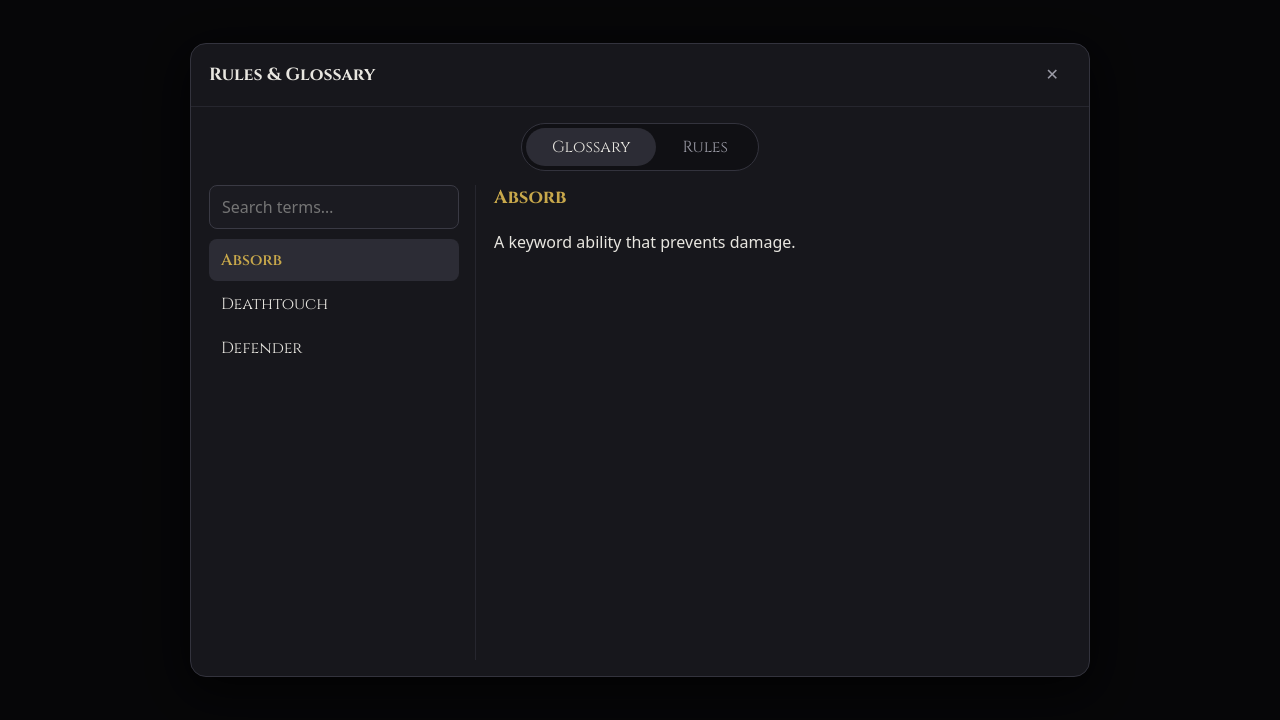
Test: rule references inside a definition jump to that rule
What coordinates should you click on to do the following:
click the button "Deathtouch"
I would click on:
 (334, 304)
Its box is [209,283,459,325].
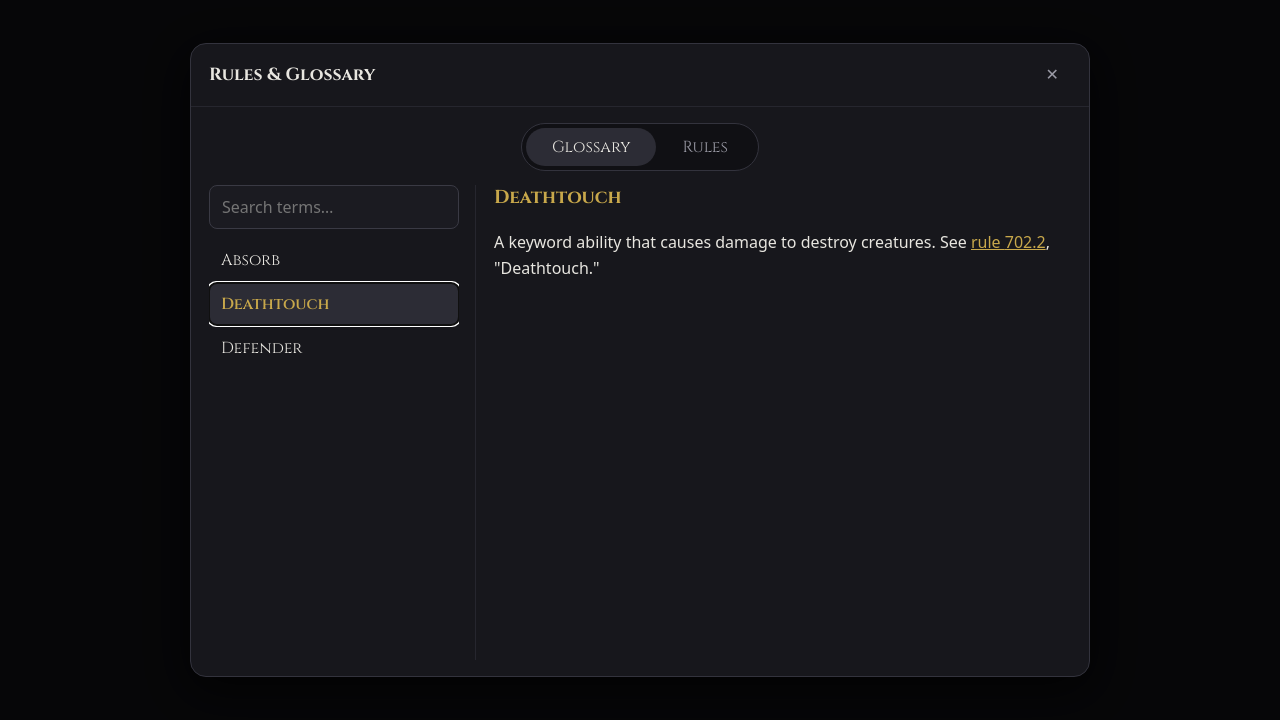
What coordinates should you click on to do the following:
click the button "rule 702.2"
I would click on:
 (1008, 242)
Its box is [971,229,1046,255].
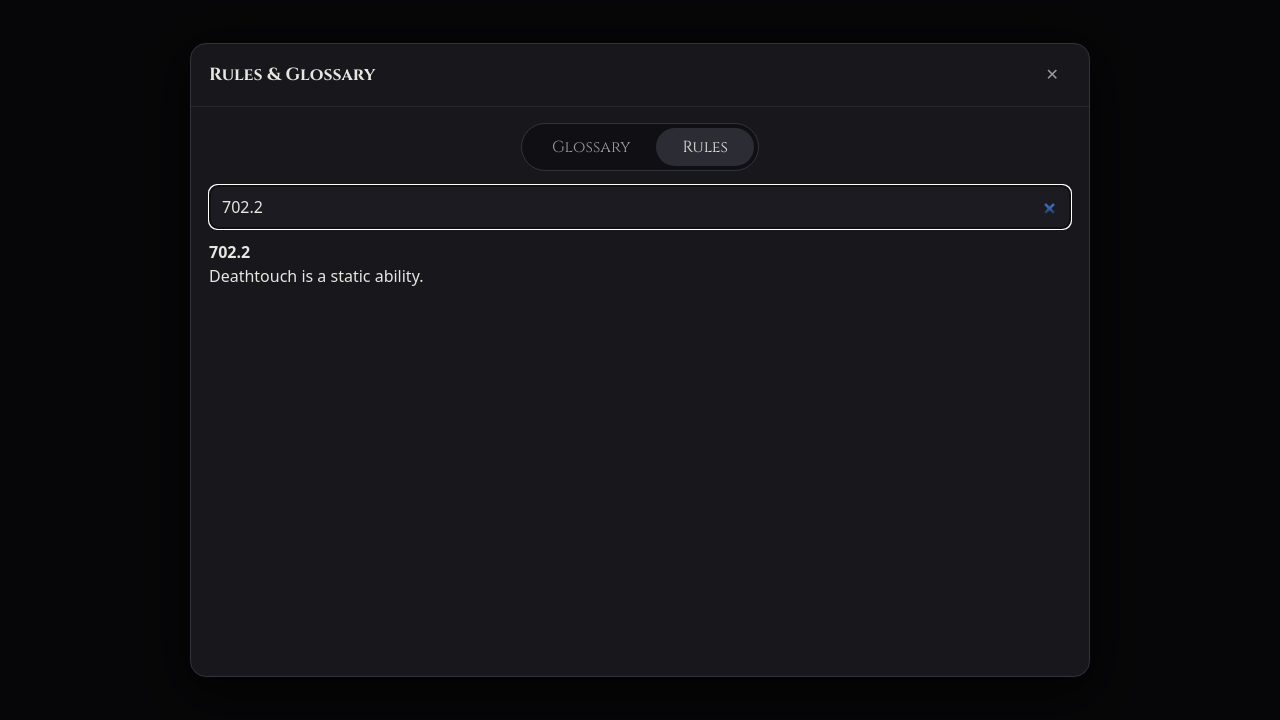
Now the text "Deathtouch is a static ability." is shown, box [209,265,424,287]
